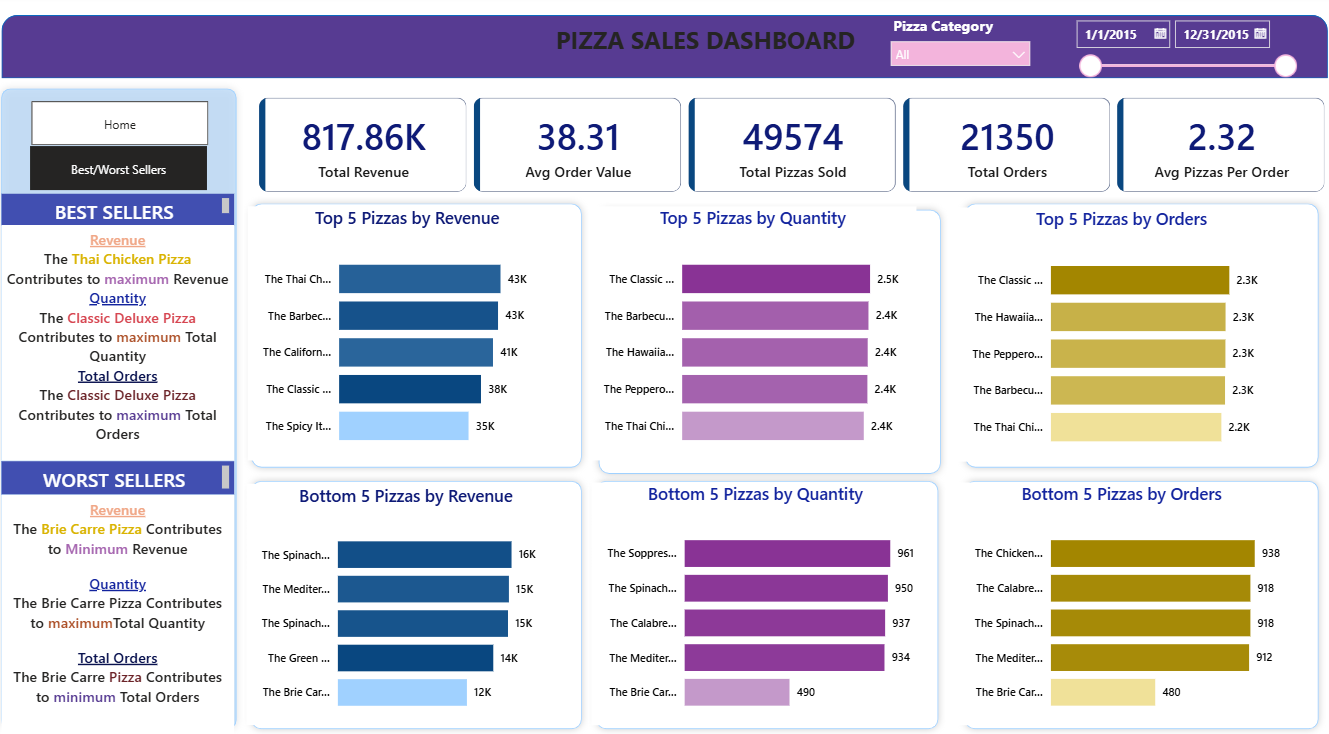

The page's visual inventory and layout, read from the dashboard file:
{"tool":"powerbi","page":{"name":"Best/Worst Sellers","canvas":[1500,820],"ordinal":1},"visuals":[{"type":"cardVisual","fields":{"Data":["pizza_sales.Total Revenue","pizza_sales.Avg Order Value","pizza_sales.Total Pizzas Sold","pizza_sales.Total Orders","pizza_sales.Avg Pizzas Per Order"]},"box":[278.2,91.7,1222.1,139.9],"z":0},{"type":"shape","box":[8,16.1,1477.8,70.8],"z":1000},{"type":"textbox","box":[598.2,20.9,387.5,49.9],"z":2000},{"type":"shape","box":[278.2,218.7,384.3,310.4],"z":3000},{"type":"shape","box":[1074.2,218.7,410.1,310.4],"z":4000},{"type":"shape","box":[278.2,527.4,384.3,292.7],"z":5000},{"type":"shape","box":[662.5,527.4,397.2,292.7],"z":6000},{"type":"shape","box":[1074.2,527.4,410.1,292.7],"z":7000},{"type":"shape","box":[0,90.1,278.2,730.1],"z":8000},{"type":"textbox","box":[8,215.5,258.9,35.4],"z":9000},{"type":"textbox","box":[8,250.9,258.9,262.1],"z":10000},{"type":"textbox","box":[8,514.6,258.9,37],"z":11000},{"type":"textbox","box":[8,551.6,258.9,268.5],"z":12000},{"type":"slicer","fields":{"Values":["pizza_sales.pizza_category"]},"box":[989,12.9,175.3,64.3],"z":13000},{"type":"slicer","fields":{"Values":["pizza_sales.order_date"]},"box":[1193.2,12.9,266.9,77.2],"z":14000},{"type":"shape","box":[665.7,225.1,397.2,310.4],"z":15000},{"type":"barChart","title":"Top 5 Pizzas by Revenue","fields":{"Category":["pizza_sales.pizza_name"],"Y":["pizza_sales.Total Revenue"]},"box":[283,230,355.4,283],"z":16000},{"type":"barChart","title":"Bottom 5 Pizzas by Revenue","fields":{"Category":["pizza_sales.pizza_name"],"Y":["pizza_sales.Total Revenue"]},"box":[281.4,538.7,355.1,268.8],"z":17000},{"type":"barChart","title":"Top 5 Pizzas by Quantity","fields":{"Category":["pizza_sales.pizza_name"],"Y":["pizza_sales.Total Pizzas Sold"]},"box":[662.5,230,365,283],"z":18000},{"type":"barChart","title":"Bottom 5 Pizzas by Quantity","fields":{"Category":["pizza_sales.pizza_name"],"Y":["pizza_sales.Total Pizzas Sold"]},"box":[665.7,537.1,365,270.2],"z":19000},{"type":"barChart","title":"Top 5 Pizzas by Orders","fields":{"Category":["pizza_sales.pizza_name"],"Y":["pizza_sales.Total Orders"]},"box":[1074.2,231.6,365,283],"z":20000},{"type":"barChart","title":"Bottom 5 Pizzas by Orders","fields":{"Category":["pizza_sales.pizza_name"],"Y":["pizza_sales.Total Orders"]},"box":[1074.2,537.1,365,270.2],"z":21000},{"type":"pageNavigator","box":[41.8,112.6,197.8,49.9],"z":22000},{"type":"pageNavigator","box":[40.2,162.4,197.8,49.9],"z":23000}]}

Visuals, with their boxes in screenshot pixels (x1, y1, x2, y2), scaled from the page's 1500x820 canvas onto the 1329x734 screenshot:
cardVisual - pizza_sales.Total Revenue x pizza_sales.Avg Order Value: detection(246, 82, 1328, 207)
shape: detection(7, 14, 1316, 78)
textbox: detection(530, 19, 873, 63)
shape: detection(246, 196, 587, 474)
shape: detection(952, 196, 1315, 474)
shape: detection(246, 472, 587, 733)
shape: detection(587, 472, 939, 733)
shape: detection(952, 472, 1315, 733)
shape: detection(0, 81, 246, 733)
textbox: detection(7, 193, 236, 225)
textbox: detection(7, 225, 236, 459)
textbox: detection(7, 461, 236, 494)
textbox: detection(7, 494, 236, 733)
slicer - pizza_sales.pizza_category: detection(876, 12, 1032, 69)
slicer - pizza_sales.order_date: detection(1057, 12, 1294, 81)
shape: detection(590, 201, 942, 479)
"Top 5 Pizzas by Revenue" barChart: detection(251, 206, 566, 459)
"Bottom 5 Pizzas by Revenue" barChart: detection(249, 482, 564, 723)
"Top 5 Pizzas by Quantity" barChart: detection(587, 206, 910, 459)
"Bottom 5 Pizzas by Quantity" barChart: detection(590, 481, 913, 723)
"Top 5 Pizzas by Orders" barChart: detection(952, 207, 1275, 461)
"Bottom 5 Pizzas by Orders" barChart: detection(952, 481, 1275, 723)
pageNavigator: detection(37, 101, 212, 145)
pageNavigator: detection(36, 145, 211, 190)
